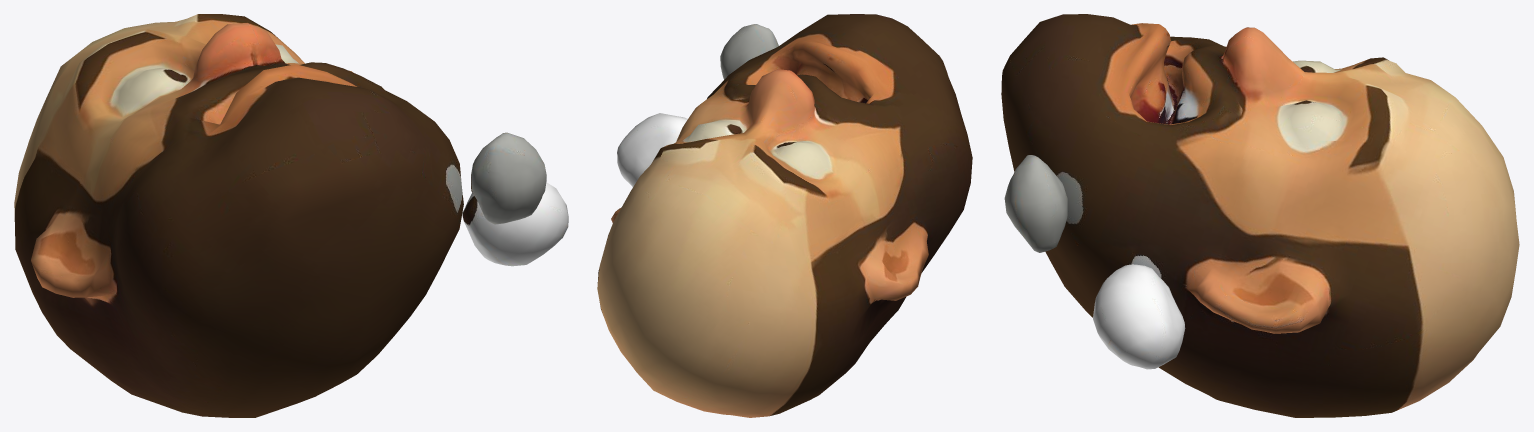
File: Tsurube_Otoshi4.glb
The picture shows the model from 3 angles, left to right: view 1: azimuth 30°, elevation 25°; view 2: azimuth 150°, elevation 25°; view 3: azimuth 270°, elevation 25°; orthographic projection. The views are drawn at different scales.
Visible parts, largest first — view 1: Retopo_Tsurube-otoshi4.001; view 2: Retopo_Tsurube-otoshi4.001; view 3: Retopo_Tsurube-otoshi4.001.
Part boxes in pixels (x1,y1,x2,y2): Retopo_Tsurube-otoshi4.001: (14,14,568,417); Retopo_Tsurube-otoshi4.001: (597,14,972,417); Retopo_Tsurube-otoshi4.001: (1001,14,1519,417).
Bounding box in the file's own units: 1.83 × 1.54 × 1.95.
1 material, 1 textured.
